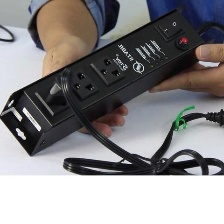three_eye_plug: (0, 6, 210, 158)
